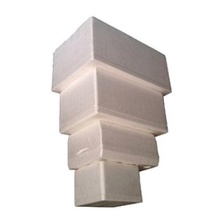foam_box: (48, 13, 174, 102), (54, 64, 172, 138), (62, 119, 162, 178), (69, 156, 146, 213)
